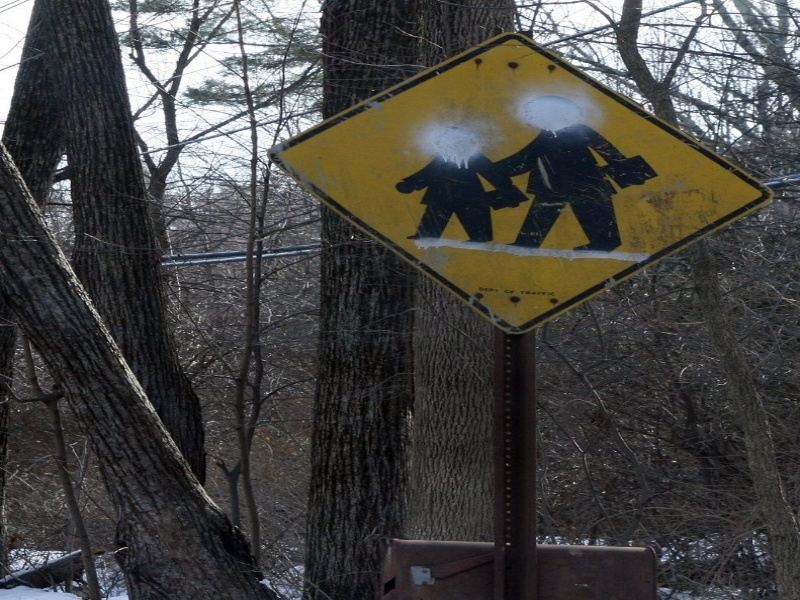pedestrian_crossing_ahead: (269, 31, 780, 336)
